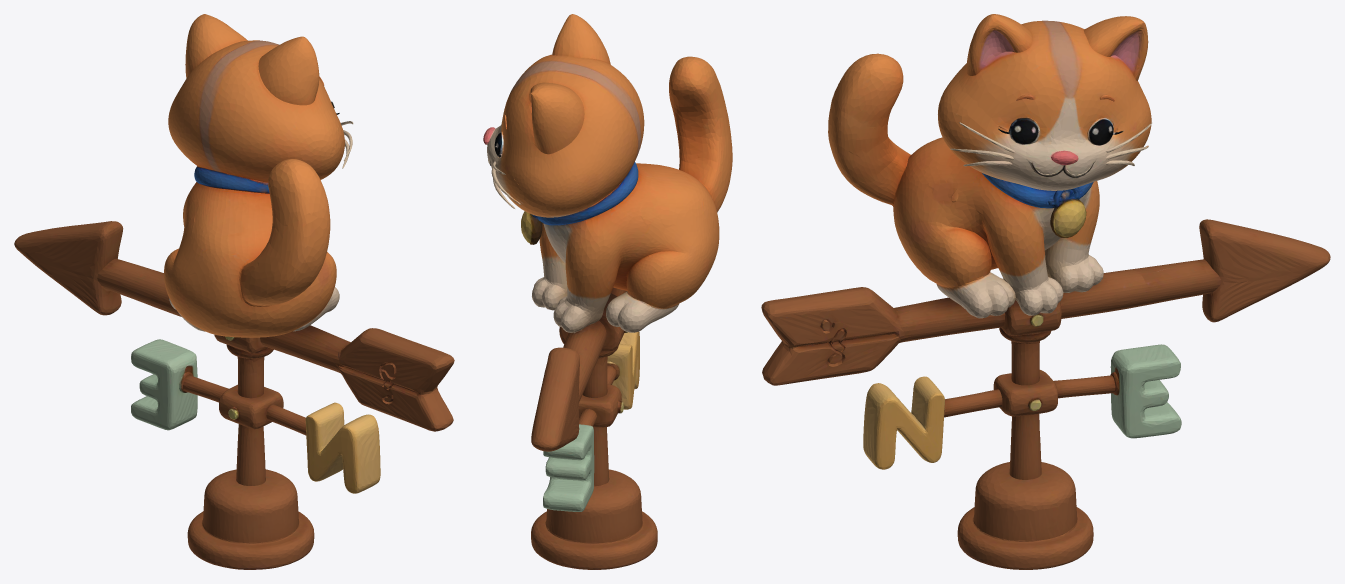
File: toy_2.glb
The picture shows the model from 3 angles, left to right: view 1: azimuth 30°, elevation 25°; view 2: azimuth 150°, elevation 25°; view 3: azimuth 270°, elevation 25°; orthographic projection. The views are drawn at different scales.
Parts seen in each view (by area): view 1: tripo_node_32d53b01-5da6-4717-9217-69b7f14595ee; view 2: tripo_node_32d53b01-5da6-4717-9217-69b7f14595ee; view 3: tripo_node_32d53b01-5da6-4717-9217-69b7f14595ee.
Part boxes in pixels (left/top/right/bottom): tripo_node_32d53b01-5da6-4717-9217-69b7f14595ee: left=14, top=14, right=454, bottom=569; tripo_node_32d53b01-5da6-4717-9217-69b7f14595ee: left=483, top=14, right=732, bottom=569; tripo_node_32d53b01-5da6-4717-9217-69b7f14595ee: left=761, top=14, right=1330, bottom=569.
Size of the model in its own units: 0.3844 by 0.9812 by 0.9238.
1 material, 1 textured.
